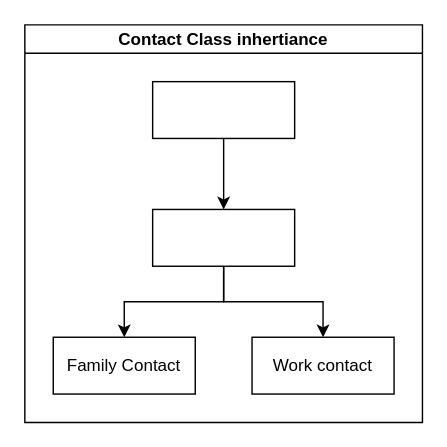
Some shapes in this 447 by 447 pixel diagram are drawn without their labels. The shapes that lost their labels are listed below. From the top down, each one's centre as x and y in pixels, then its label:
At pixel 223 109: "Contact".
At pixel 223 237: "Close contact".
